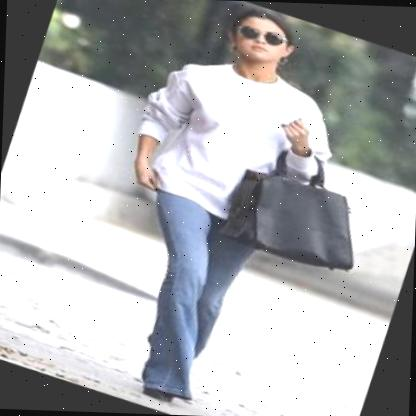bag: (222, 149, 367, 286)
person: (120, 3, 345, 413)
